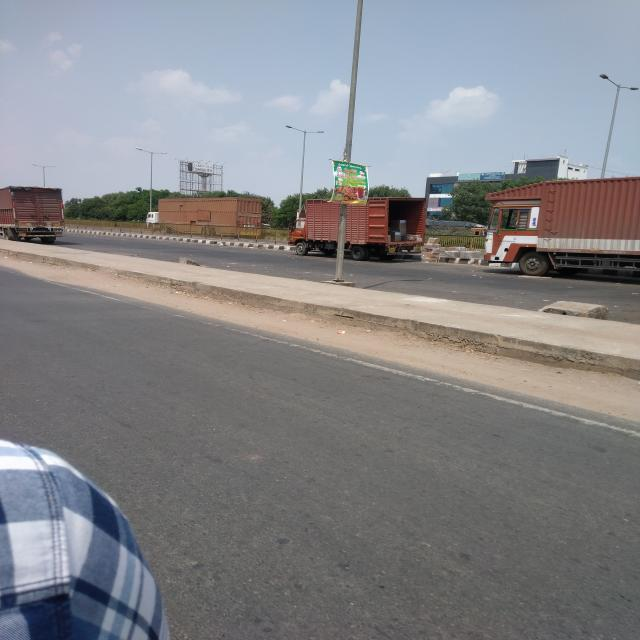truck_back: (478, 174, 640, 278), (288, 189, 433, 267), (140, 188, 267, 246), (0, 180, 73, 245)
